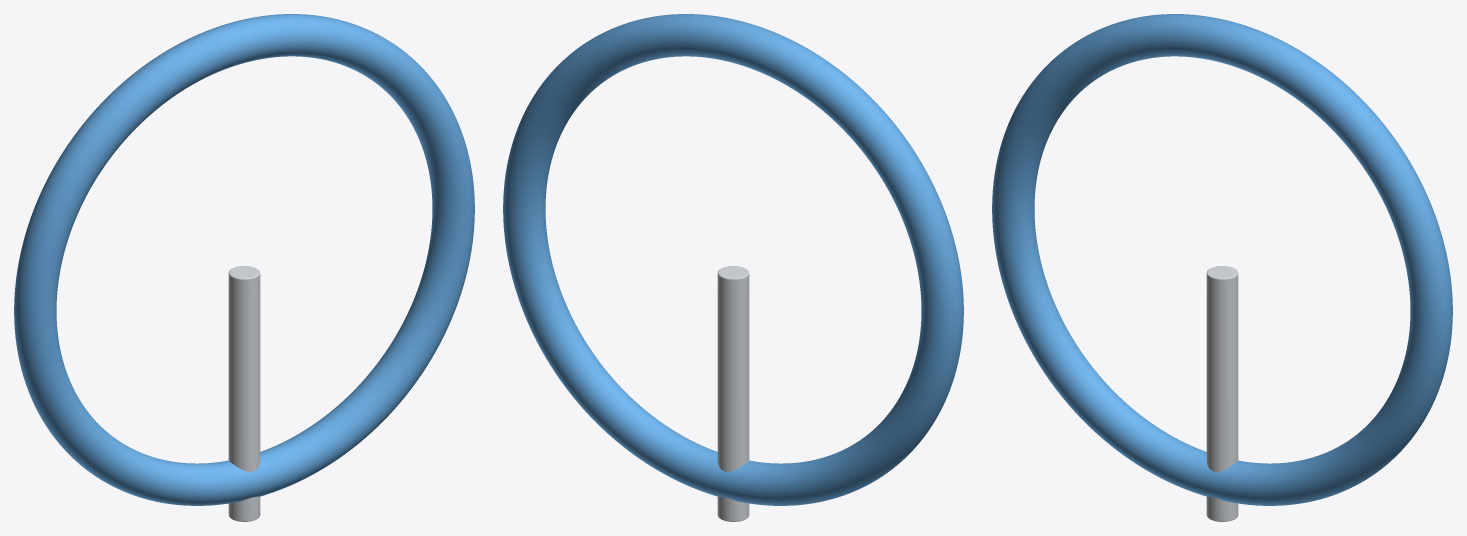
Rendered from Toy_Goal_Hi_000219.fbx.
3 views of the same model, side by side, from view 1: azimuth 30°, elevation 25°; view 2: azimuth 150°, elevation 25°; view 3: azimuth 330°, elevation 25° (orthographic).
Parts seen in each view (by area): view 1: Torus, Cylinder; view 2: Torus, Cylinder; view 3: Torus, Cylinder.
Part boxes in pixels (left/top/right/bottom): Torus: left=14, top=14, right=474, bottom=505; Cylinder: left=228, top=266, right=260, bottom=521; Torus: left=503, top=14, right=963, bottom=505; Cylinder: left=717, top=266, right=749, bottom=521; Torus: left=992, top=14, right=1452, bottom=505; Cylinder: left=1206, top=266, right=1238, bottom=521.
Size of the model in its own units: 1.96 by 2.03 by 0.1582.
